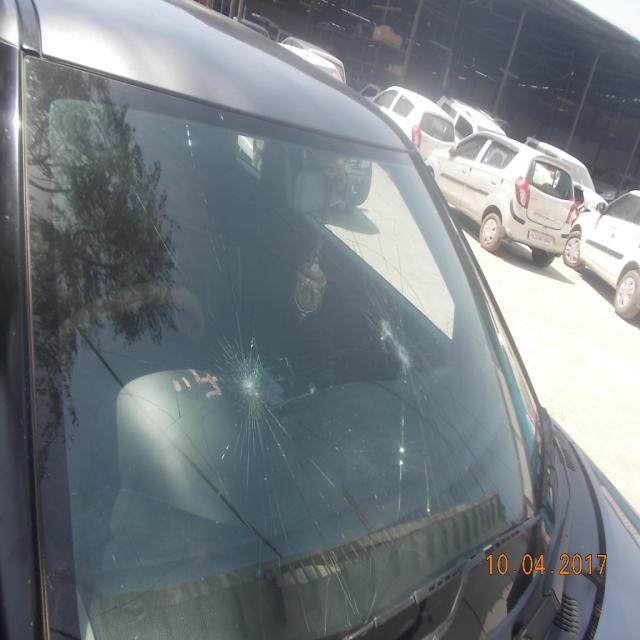Glass_Break: (216, 332, 296, 442), (378, 316, 433, 406)
